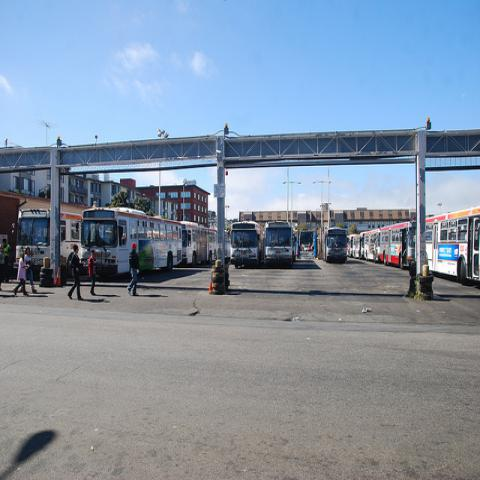bus: (79, 210, 187, 278), (13, 209, 84, 273), (424, 206, 480, 284), (380, 221, 416, 270), (230, 222, 265, 268), (264, 222, 295, 266), (181, 221, 210, 266), (322, 227, 348, 264), (364, 228, 380, 262), (348, 234, 358, 258)
